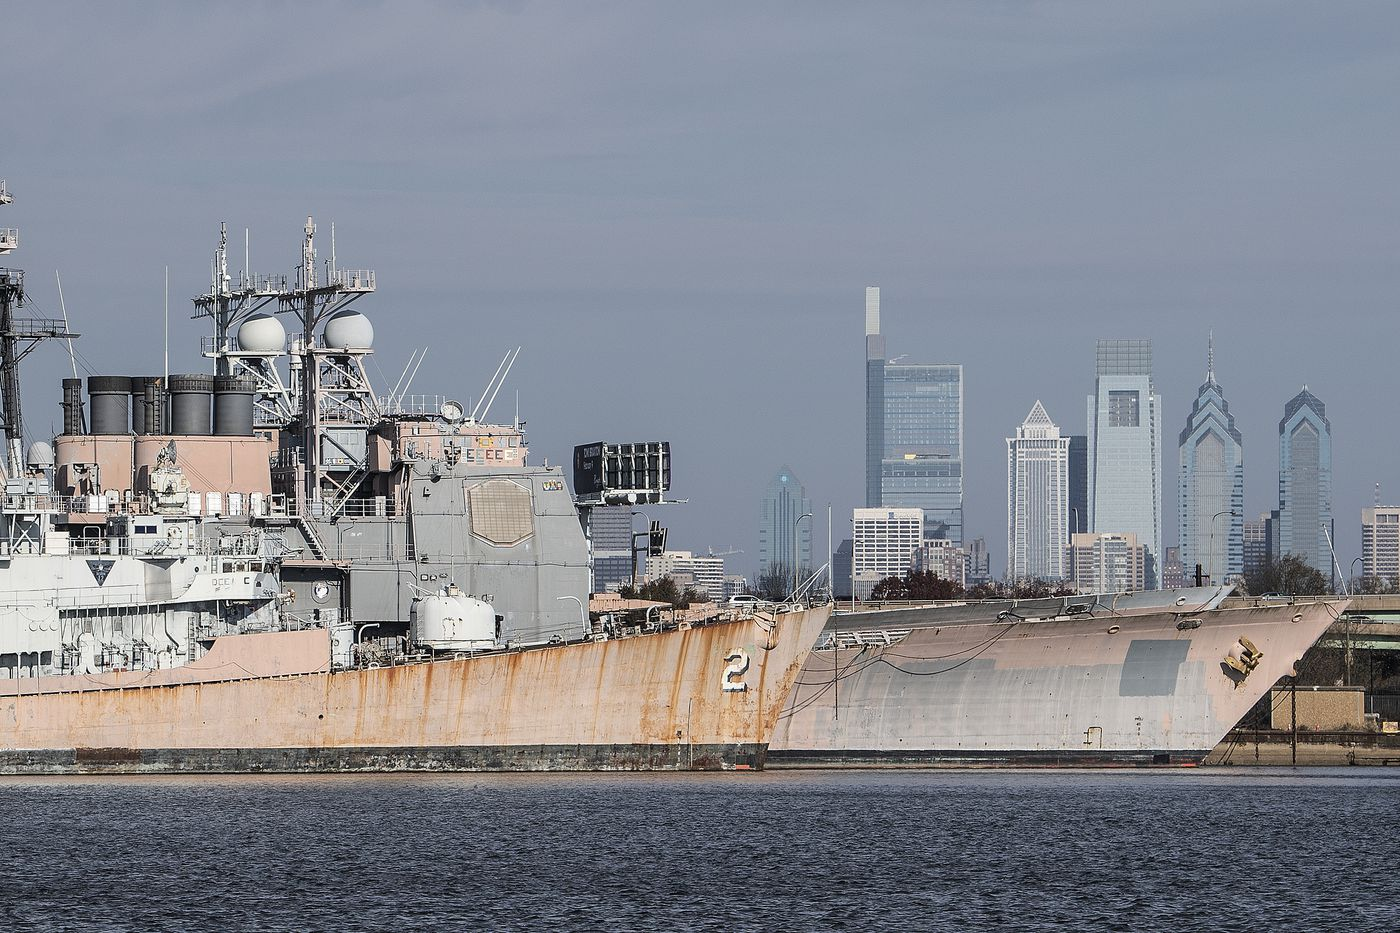rust: (345, 672, 524, 718), (612, 638, 692, 735), (708, 619, 756, 654)
